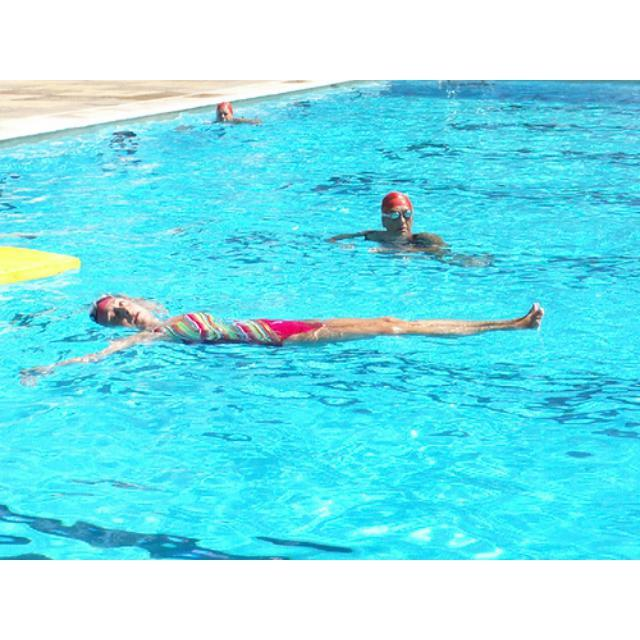human: (31, 289, 548, 337), (326, 193, 471, 265), (211, 100, 262, 128)
